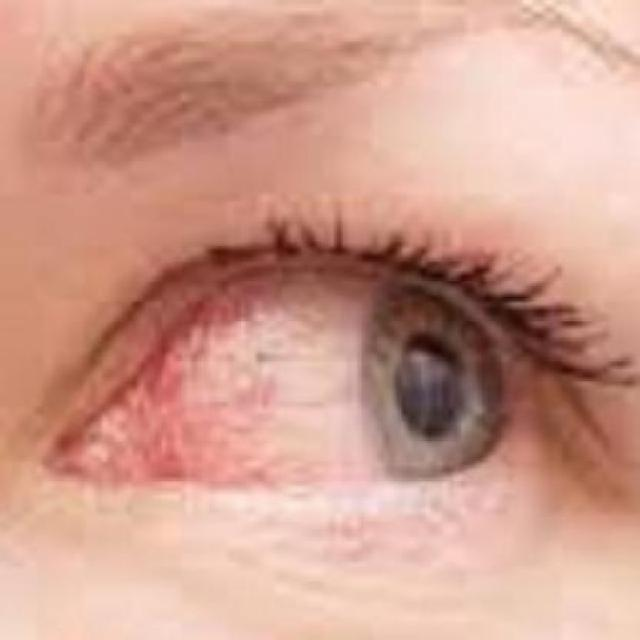awake: (63, 246, 520, 516)
